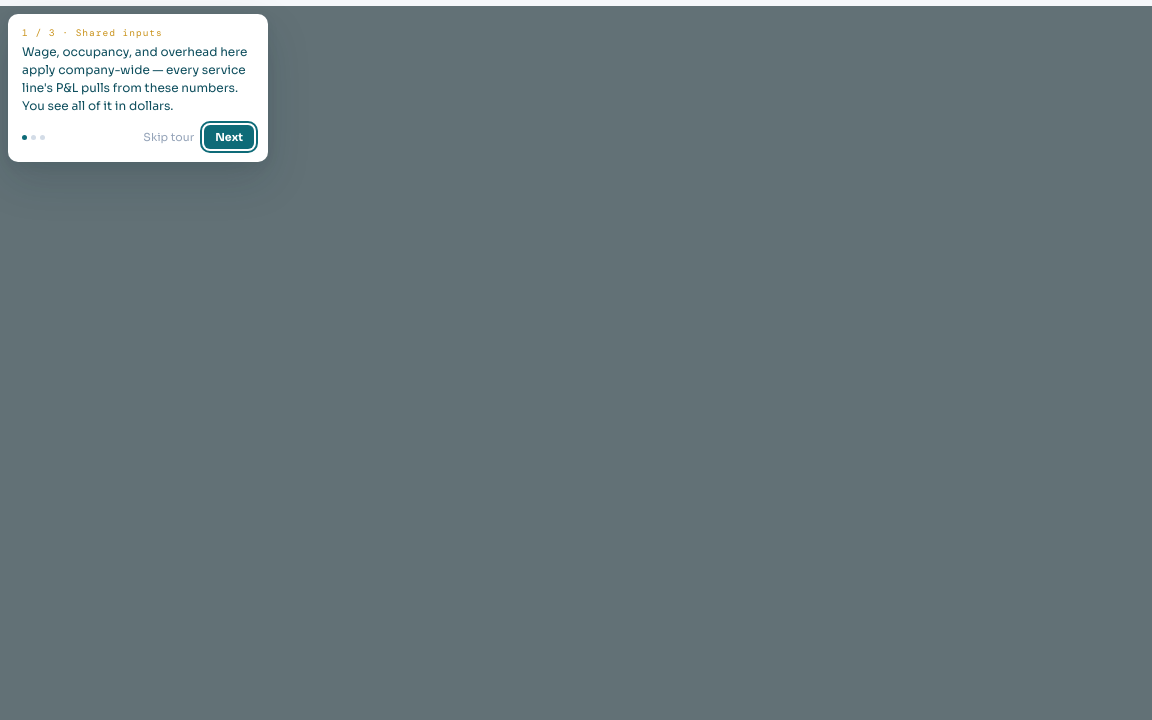
Test case: GuidedTour — stop content and navigation › Next advances through strip then save, Finish calls onFinish
Later steps or results of the test are not shown.
Expected: the text "1 / 3 · Shared inputs" is shown, 22,27 -> 163,39
Step 1. Click the button "Next" → {"x": 229, "y": 137}, box 204,125 -> 254,149
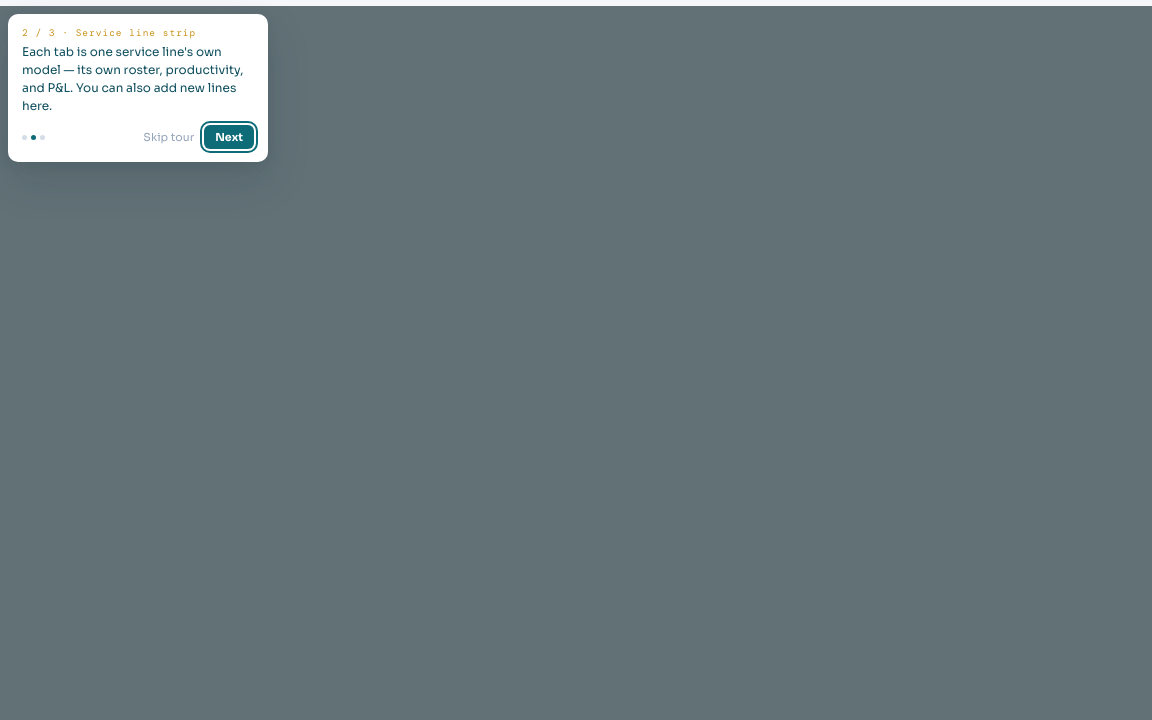
Expected: the text "2 / 3 · Service line strip" is shown, 22,27 -> 196,39
Step 2. Click the button "Next" → {"x": 229, "y": 137}, box 204,125 -> 254,149
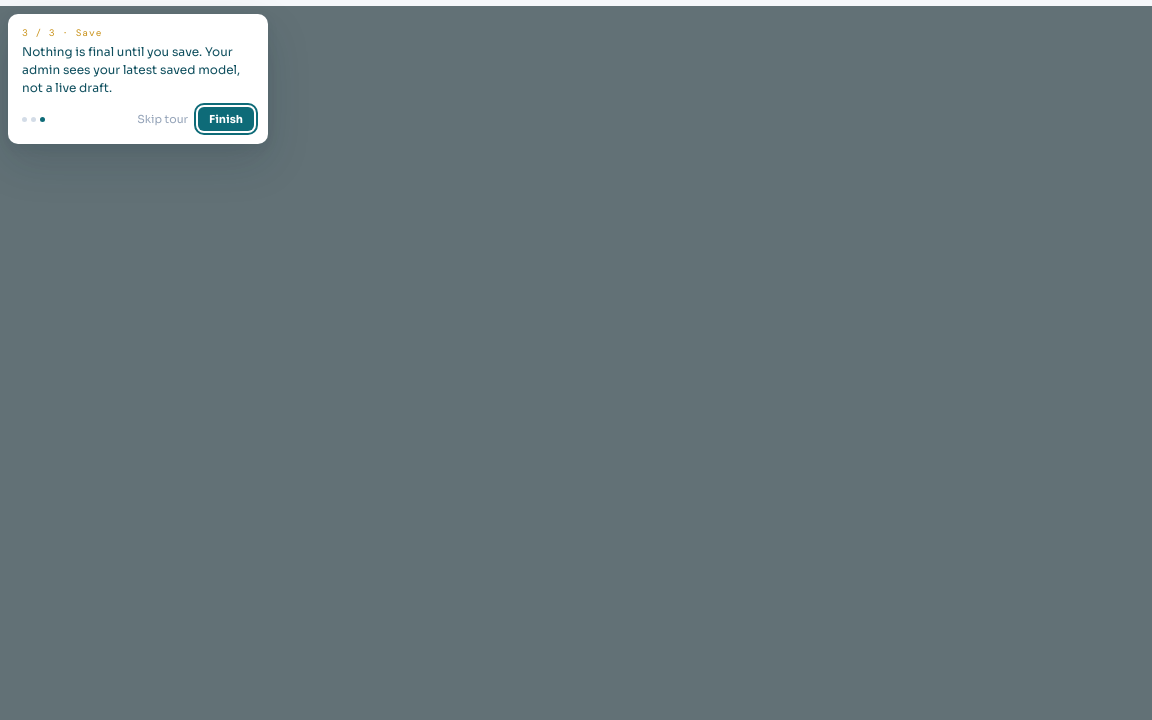
Expected: the button "Finish" is shown, 198,107 -> 254,131
Expected: the text "3 / 3 · Save" is shown, 22,27 -> 102,39
